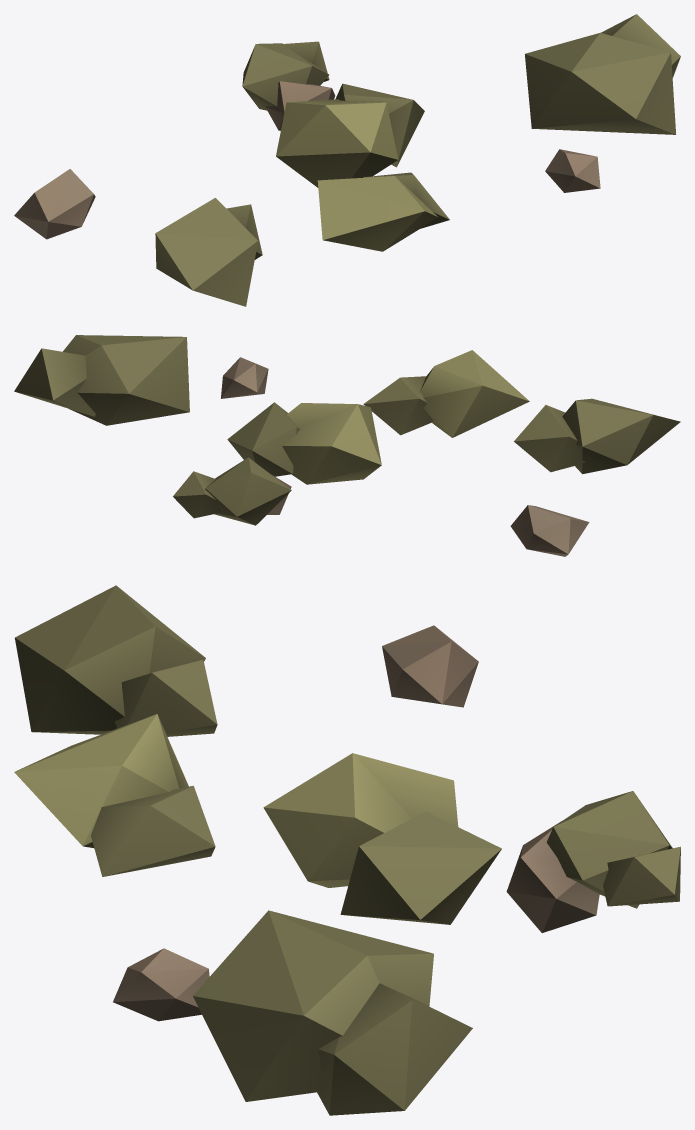
File: desert_scrub.glb
3 renders of one model, top to bottom at view 1: azimuth 30°, elevation 25°; view 2: azimuth 150°, elevation 25°; view 3: azimuth 270°, elevation 25°, orthographic. The views are drawn at different scales.
Parts seen in each view (by area): view 1: desert_scrub; view 2: desert_scrub; view 3: desert_scrub.
Part boxes in pixels (x1,y1,x2,y2): desert_scrub: [14, 14, 680, 306]; desert_scrub: [14, 335, 680, 556]; desert_scrub: [14, 585, 680, 1115].
Size of the model in its own units: 3.45 by 0.4775 by 2.09.
